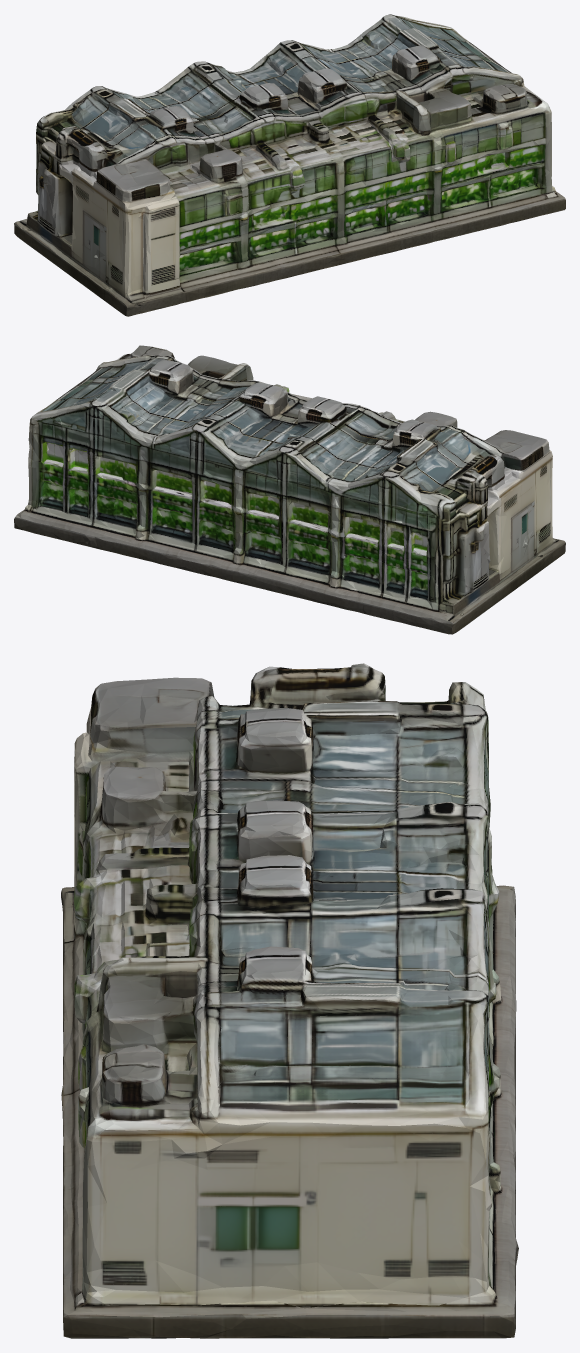
The model's file is gq_hydroponics_pilot_v1_20261112_LowPoly_Textured_00001_.glb.
3 renders of one model, top to bottom at view 1: azimuth 30°, elevation 25°; view 2: azimuth 150°, elevation 25°; view 3: azimuth 270°, elevation 25°, orthographic. The views are drawn at different scales.
Visible parts, largest first — view 1: geometry_0; view 2: geometry_0; view 3: geometry_0.
Boxes of the visible parts, x1,y1,x2,y2 form: geometry_0: [14, 14, 565, 316]; geometry_0: [14, 345, 565, 634]; geometry_0: [61, 663, 518, 1338].
Size of the model in its own units: 1 by 0.3099 by 0.4507.
Materials: 1 (1 with a texture image).
